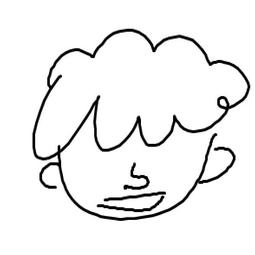ear: (194, 140, 243, 186), (35, 161, 62, 194)
nose: (113, 160, 152, 192)
open_mouth: (98, 192, 165, 214)
